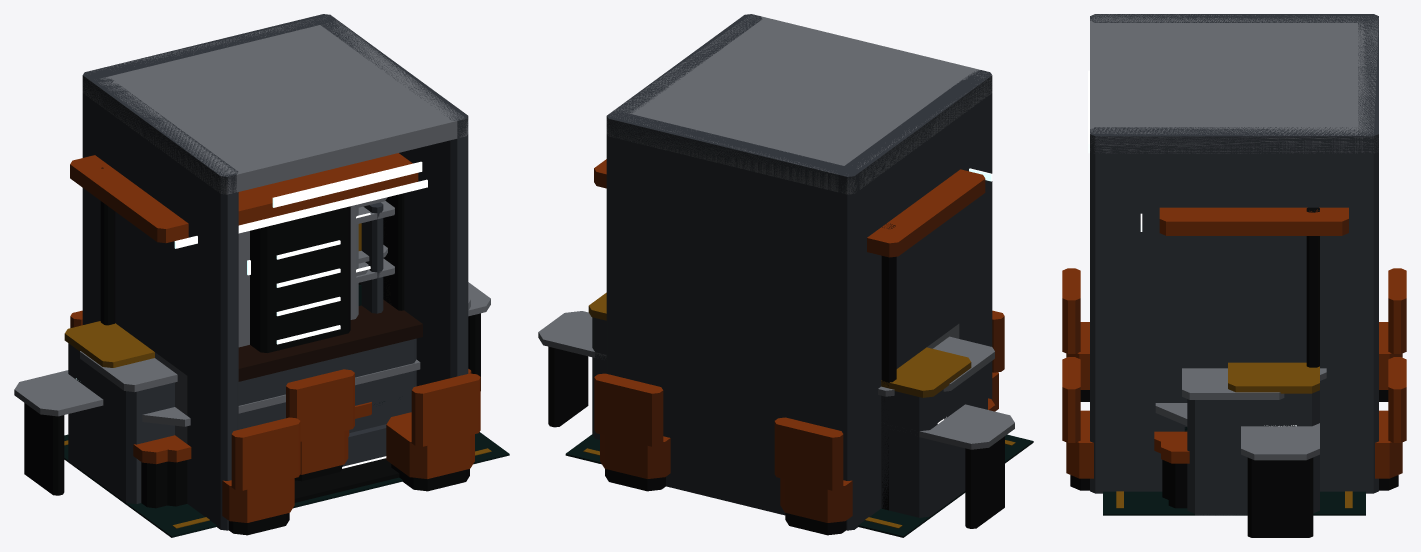
The model's file is shaddai_furniture_kit_v01.glb.
3 renders of one model, left to right at view 1: azimuth 30°, elevation 25°; view 2: azimuth 150°, elevation 25°; view 3: azimuth 270°, elevation 25°, orthographic.
Visible parts, largest first — view 1: furn_lift, furn_meeting-table, furn_server-rack, furn_stall, furn_anvil-station, furn_class-desk-row, furn_counter, furn_bar-counter, furn_desk, furn_rug, furn_grow-rack, furn_wardrobe (+2 smaller); view 2: furn_lift, furn_meeting-table, furn_bar-counter, furn_class-desk-row, furn_stall, furn_counter, furn_rug; view 3: furn_lift, furn_meeting-table, furn_counter, furn_class-desk-row, furn_stall, furn_bar-counter, furn_rug.
Boxes of the visible parts, x1,y1,x2,y2 form: furn_lift: [82, 14, 468, 530]; furn_meeting-table: [70, 310, 480, 535]; furn_server-rack: [250, 206, 350, 352]; furn_stall: [70, 153, 427, 360]; furn_anvil-station: [238, 282, 422, 432]; furn_class-desk-row: [14, 282, 490, 508]; furn_counter: [80, 297, 470, 503]; furn_bar-counter: [64, 321, 371, 506]; furn_desk: [286, 369, 354, 481]; furn_rug: [64, 432, 509, 537]; furn_grow-rack: [238, 193, 404, 311]; furn_wardrobe: [238, 204, 358, 347]; furn_lift: [606, 14, 992, 530]; furn_meeting-table: [594, 310, 1004, 535]; furn_bar-counter: [588, 292, 971, 517]; furn_class-desk-row: [538, 311, 1014, 528]; furn_stall: [594, 159, 992, 510]; furn_counter: [933, 336, 994, 493]; furn_rug: [565, 434, 1033, 537]; furn_lift: [1088, 14, 1378, 493]; furn_meeting-table: [1062, 268, 1406, 490]; furn_counter: [1182, 368, 1284, 515]; furn_class-desk-row: [1161, 423, 1319, 537]; furn_stall: [1140, 207, 1348, 380]; furn_bar-counter: [1154, 362, 1319, 513]; furn_rug: [1103, 491, 1365, 515].
Size of the model in its own units: 4 by 3 by 2.62.
